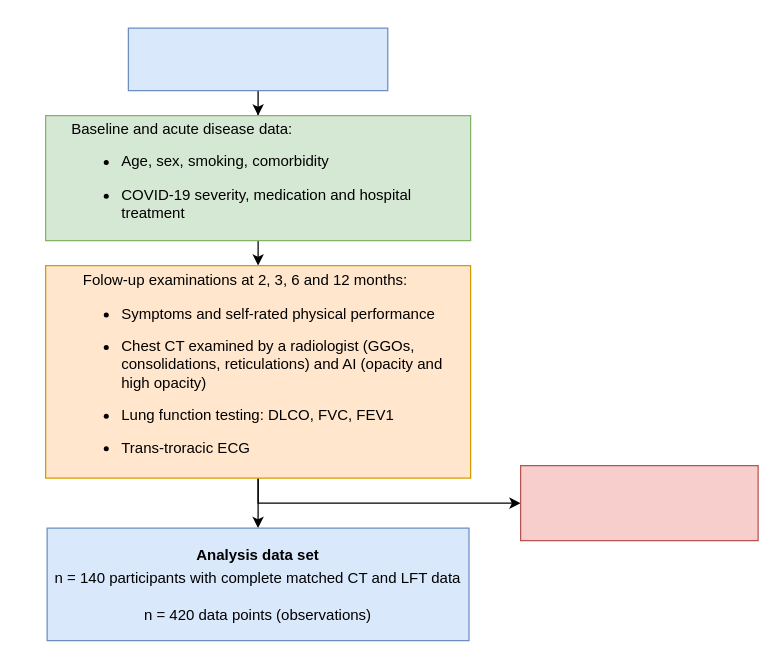
This 780x663 diagram has some shape labels left out. The box of each missing label's shape, as (x1, y1, x2, y2) in pixels:
CovILD cohort n = 145 COVID-19 convalescents: (127, 27, 388, 91)
Excluded: missing CT or LFT n = 5 participants: (519, 464, 758, 541)
